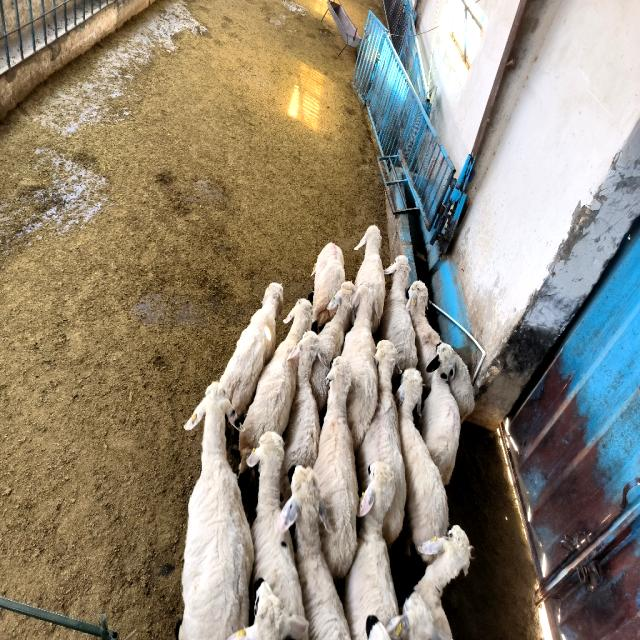sheep: (179, 382, 254, 638), (239, 298, 312, 472), (278, 465, 350, 640), (356, 340, 406, 548), (249, 432, 305, 616), (386, 525, 471, 639), (345, 462, 399, 638), (398, 368, 449, 551), (220, 282, 284, 416), (280, 330, 324, 501), (310, 282, 356, 416), (341, 285, 378, 451), (422, 343, 460, 482), (229, 582, 309, 640), (380, 255, 418, 369), (406, 280, 441, 389), (354, 225, 385, 332), (312, 242, 345, 326), (449, 352, 475, 421)
